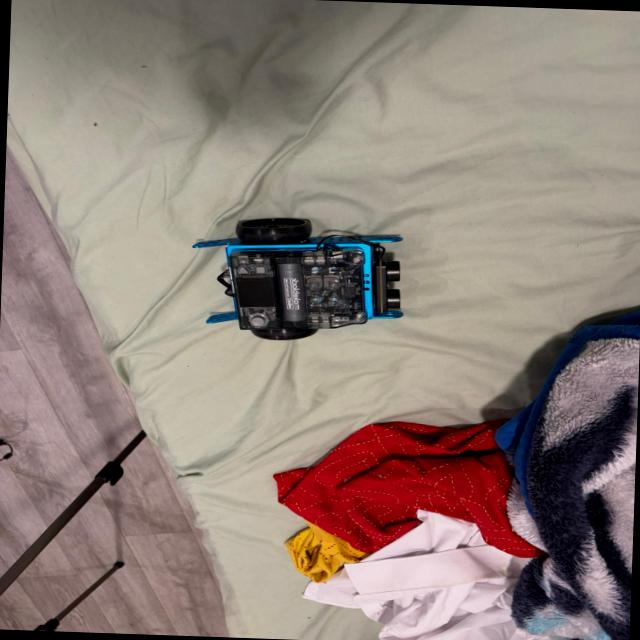mbot-detection: (182, 210, 416, 346)
